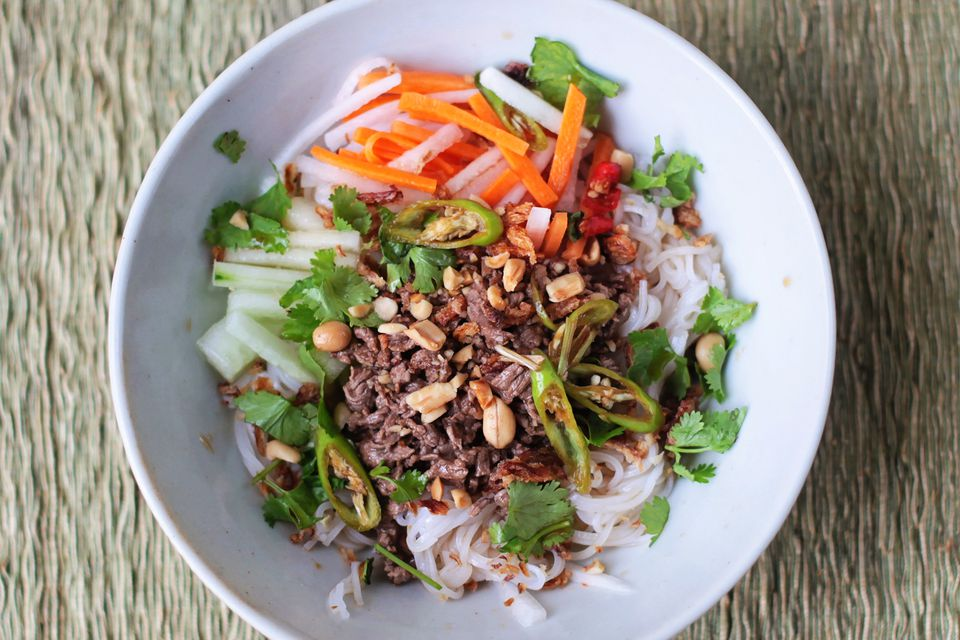beef: (355, 340, 474, 474), (455, 272, 548, 354)
chilli: (548, 350, 662, 438), (388, 198, 503, 251), (323, 422, 376, 531)
vegetable: (215, 215, 346, 355)
